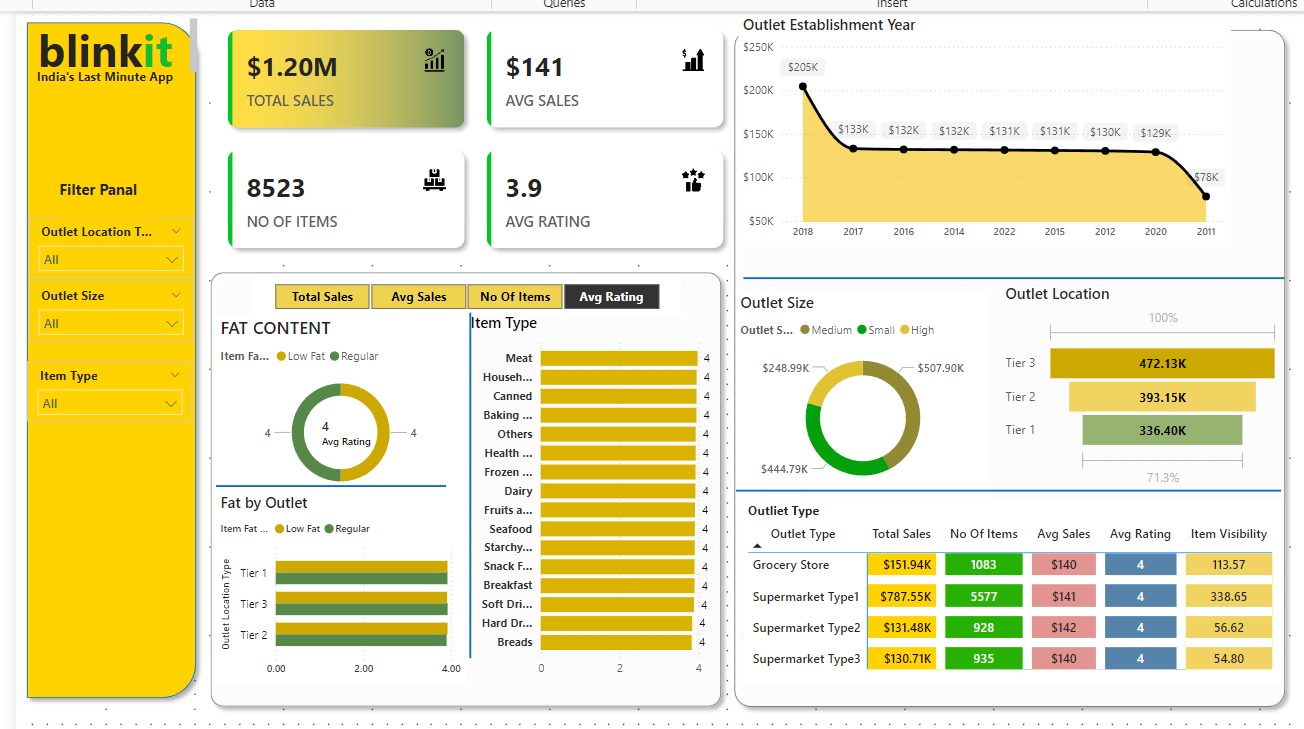

What the dashboard file says about the page in this screenshot:
{"tool":"powerbi","page":{"name":"Page 1","canvas":[1400,800],"ordinal":0},"visuals":[{"type":"shape","box":[3,0,201.1,748.9],"z":0},{"type":"textbox","box":[0,0,201.1,70.5],"z":1000},{"type":"textbox","box":[12,52.5,168.1,37.5],"z":2000},{"type":"cardVisual","fields":{"Data":["BlinkIT Grocery Data.Total Sales","BlinkIT Grocery Data.Avg Sales","BlinkIT Grocery Data.No Of Items","BlinkIT Grocery Data.Avg Rating"]},"box":[211.6,0,570.3,270.2],"z":3000},{"type":"shape","box":[201.1,270.2,570.3,487.8],"z":4000},{"type":"donutChart","title":"FAT CONTENT","fields":{"Y":["BlinkIT Grocery Data.Total Sales"],"Category":["BlinkIT Grocery Data.Item Fat Content"]},"box":[216.1,325.7,270.2,201.1],"z":5000},{"type":"slicer","fields":{"Values":["Metrics.Metrics"]},"box":[253.6,285.2,465.3,40.5],"z":6000},{"type":"cardVisual","fields":{"Data":["BlinkIT Grocery Data.Total Sales"]},"box":[313.7,414.2,96.1,78],"z":7000},{"type":"clusteredBarChart","title":"Fat by Outlet ","fields":{"Y":["BlinkIT Grocery Data.Total Sales"],"Category":["BlinkIT Grocery Data.Outlet Location Type"],"Series":["BlinkIT Grocery Data.Item Fat Content"]},"box":[216.1,516.3,270.2,208.6],"z":8000},{"type":"shape","box":[216.1,495.3,249.1,31.5],"z":9000},{"type":"barChart","title":"Item Type","fields":{"Y":["BlinkIT Grocery Data.Total Sales"],"Category":["BlinkIT Grocery Data.Item Type"]},"box":[486.3,321.2,273.2,403.7],"z":10000},{"type":"shape","box":[768.4,7.5,613.9,750.4],"z":11000},{"type":"lineChart","title":"Outlet Establishment Year","fields":{"Category":["BlinkIT Grocery Data.Outlet Establishment Year"],"Y":["BlinkIT Grocery Data.Total Sales"]},"box":[781.9,0,532.8,252.1],"z":12000},{"type":"shape","box":[786.5,267.2,585.3,36],"z":13000},{"type":"donutChart","title":"Outlet Size","fields":{"Y":["BlinkIT Grocery Data.Total Sales"],"Category":["BlinkIT Grocery Data.Outlet Size"]},"box":[778.9,300.2,275,225],"z":14000},{"type":"funnel","title":"Outlet Location","fields":{"Category":["BlinkIT Grocery Data.Outlet Location Type"],"Y":["Sum(BlinkIT Grocery Data.Sales)"]},"box":[1065.6,291.2,306.2,225.1],"z":15000},{"type":"shape","box":[778.9,504.3,589.8,22.5],"z":16000},{"type":"pivotTable","title":"Outliet Type","fields":{"Rows":["BlinkIT Grocery Data.Outlet Type"],"Values":["BlinkIT Grocery Data.Total Sales","BlinkIT Grocery Data.No Of Items","BlinkIT Grocery Data.Avg Sales","BlinkIT Grocery Data.Avg Rating","Sum(BlinkIT Grocery Data.Item Visibility)"]},"box":[786.5,526.8,582.3,198.1],"z":17000},{"type":"slicer","fields":{"Values":["BlinkIT Grocery Data.Outlet Location Type"]},"box":[13.5,220.6,178.6,64.5],"z":18000},{"type":"slicer","fields":{"Values":["BlinkIT Grocery Data.Outlet Size"]},"box":[13.5,289.7,178.6,64.5],"z":19000},{"type":"slicer","fields":{"Values":["BlinkIT Grocery Data.Item Type"]},"box":[12,375.2,178.6,64.5],"z":20000},{"type":"textbox","box":[42,172.6,108.1,48],"z":21000},{"type":"shape","box":[484.8,322.7,12,373.7],"z":22000}]}

Visuals, with their boxes on the page's 1400x800 design canvas (x1, y1, x2, y2). These are canvas units, not pixel positions in the 1304x729 screenshot, which may show the page scaled, cropped or inside an application window:
shape: (3, 0, 204, 749)
textbox: (0, 0, 201, 70)
textbox: (12, 52, 180, 90)
cardVisual - BlinkIT Grocery Data.Total Sales x BlinkIT Grocery Data.Avg Sales: (212, 0, 782, 270)
shape: (201, 270, 771, 758)
"FAT CONTENT" donutChart: (216, 326, 486, 527)
slicer - Metrics.Metrics: (254, 285, 719, 326)
cardVisual - BlinkIT Grocery Data.Total Sales: (314, 414, 410, 492)
"Fat by Outlet " clusteredBarChart: (216, 516, 486, 725)
shape: (216, 495, 465, 527)
"Item Type" barChart: (486, 321, 760, 725)
shape: (768, 8, 1382, 758)
"Outlet Establishment Year" lineChart: (782, 0, 1315, 252)
shape: (786, 267, 1372, 303)
"Outlet Size" donutChart: (779, 300, 1054, 525)
"Outlet Location" funnel: (1066, 291, 1372, 516)
shape: (779, 504, 1369, 527)
"Outliet Type" pivotTable: (786, 527, 1369, 725)
slicer - BlinkIT Grocery Data.Outlet Location Type: (14, 221, 192, 285)
slicer - BlinkIT Grocery Data.Outlet Size: (14, 290, 192, 354)
slicer - BlinkIT Grocery Data.Item Type: (12, 375, 191, 440)
textbox: (42, 173, 150, 221)
shape: (485, 323, 497, 696)
